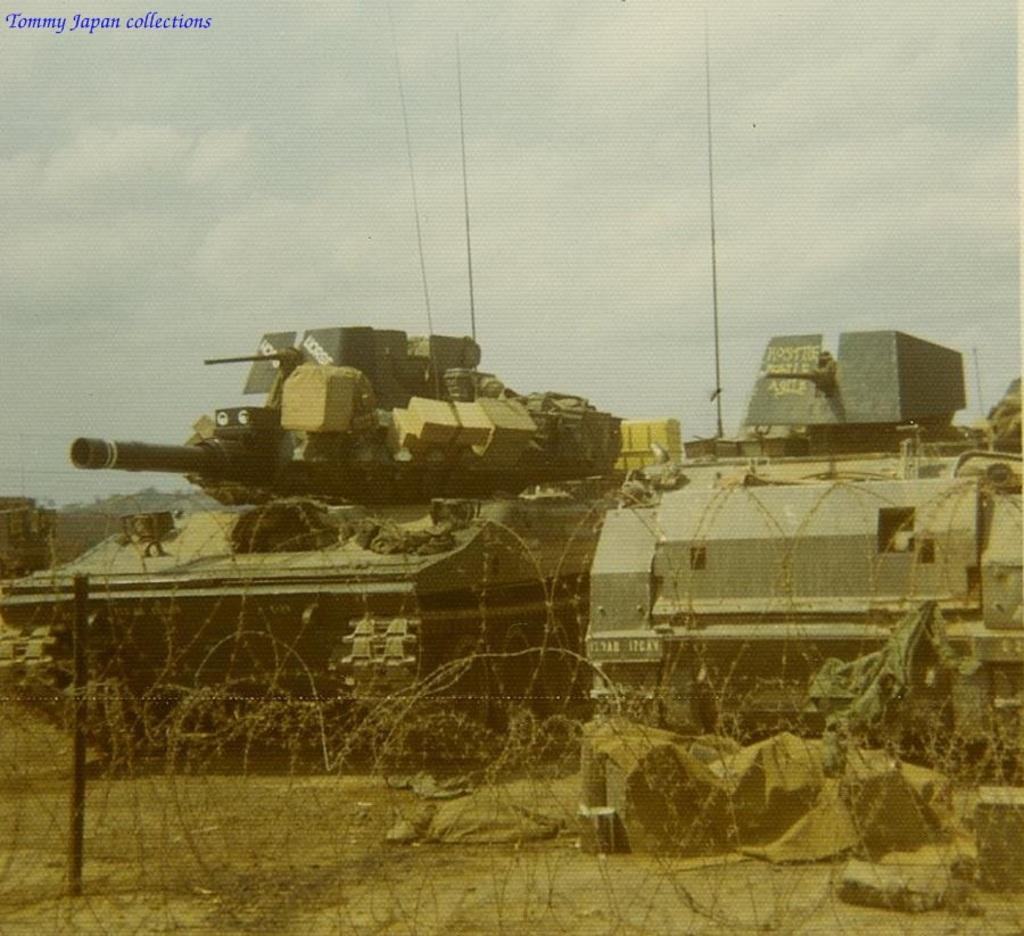Tank: (1, 0, 678, 755)
